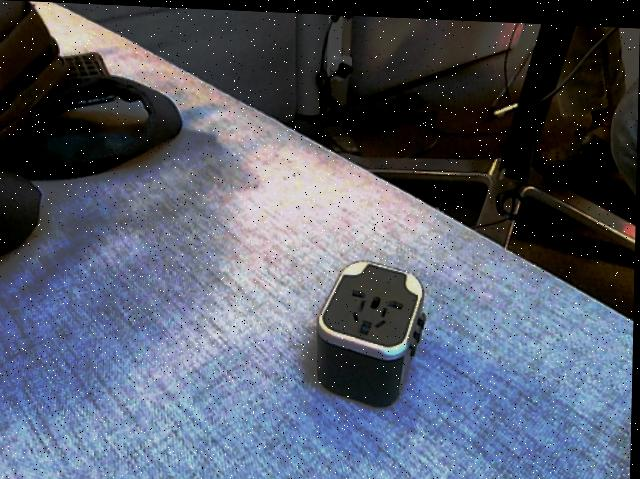adapter: (315, 255, 428, 406)
